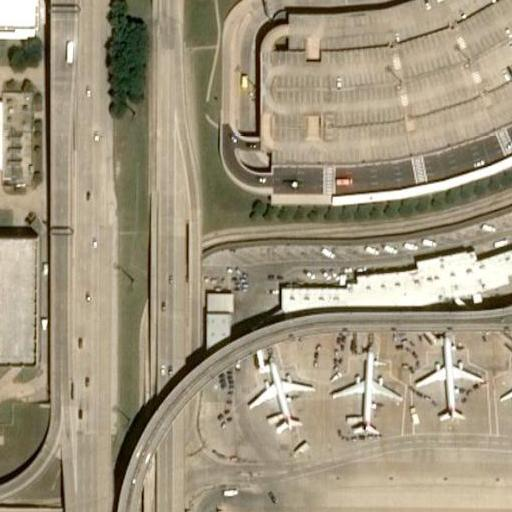Aircraft: (412, 335, 483, 421), (331, 350, 396, 432), (258, 364, 304, 438), (503, 354, 512, 424)
